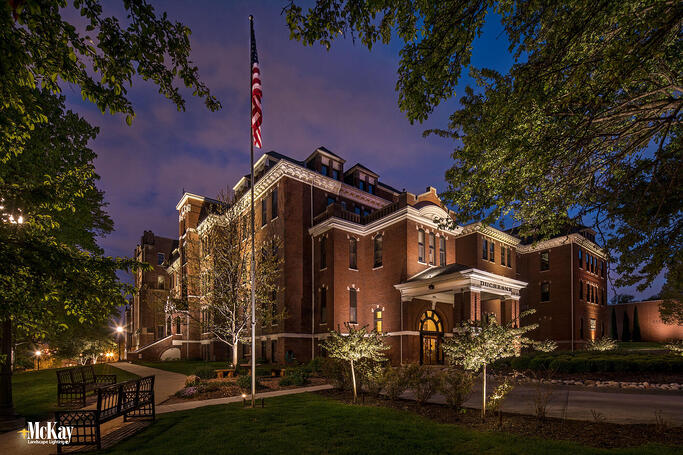Flag: (248, 17, 265, 149)
